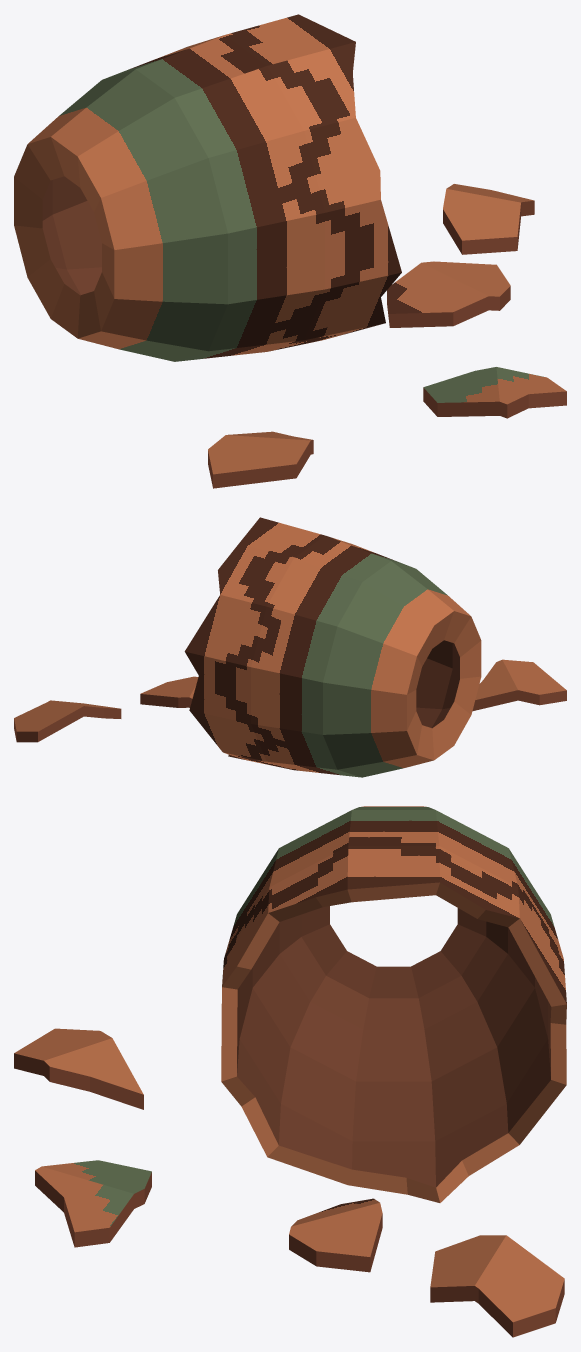
Rendered from 舱里-碎陶罐.glb.
3 views of the same model, one above another, from view 1: azimuth 30°, elevation 25°; view 2: azimuth 150°, elevation 25°; view 3: azimuth 270°, elevation 25° (orthographic). The views are drawn at different scales.
Parts seen in each view (by area): view 1: matte_shattered_earthenware; view 2: matte_shattered_earthenware; view 3: matte_shattered_earthenware.
Part boxes in pixels (x1,y1,x2,y2): matte_shattered_earthenware: [14, 14, 566, 488]; matte_shattered_earthenware: [14, 517, 566, 777]; matte_shattered_earthenware: [14, 806, 566, 1337].
Size of the model in its own units: 0.5931 by 0.3091 by 0.4937.
1 material, 1 textured.
